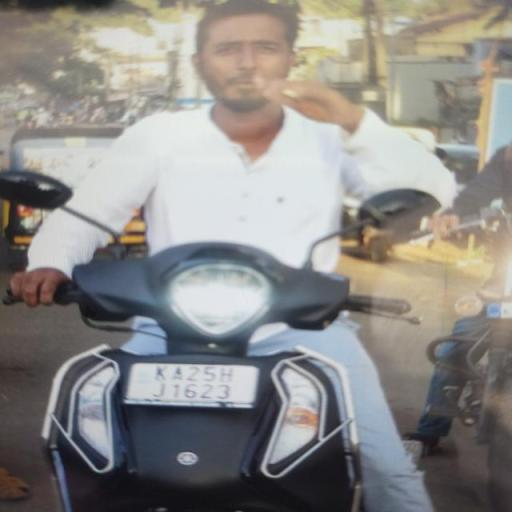bike: (10, 1, 470, 508)
numberplate: (123, 358, 258, 409)
withouthelmet: (202, 3, 295, 108)
